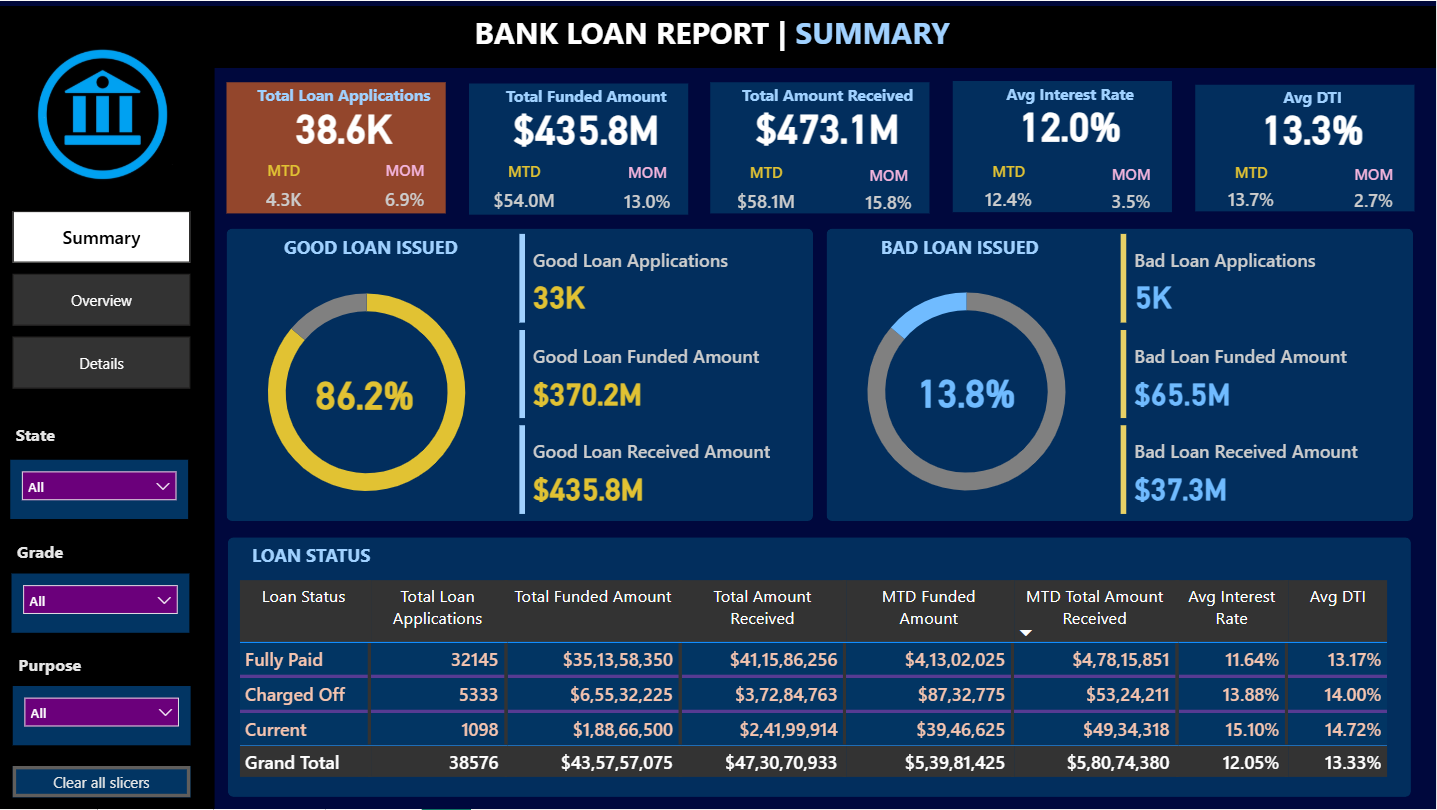

This screenshot's page, from the dashboard's own definition file:
{"tool":"powerbi","page":{"name":"Summary","canvas":[1280,720],"ordinal":0},"visuals":[{"type":"shape","box":[0,55.5,192,664.7],"z":0},{"type":"shape","box":[848.8,70.8,195.4,117],"z":0,"group":"g4"},{"type":"shape","box":[202.7,72,195.4,117],"z":0,"group":"g1"},{"type":"shape","box":[633.6,72,195.4,117],"z":0,"group":"g3"},{"type":"shape","box":[418.3,73.2,195.4,117],"z":0,"group":"g2"},{"type":"shape","box":[1065.3,74.2,195.4,112.7],"z":0,"group":"g5"},{"type":"card","fields":{"Values":["bank_loan_data.Avg Interest Rate"]},"box":[855.2,85.7,195.4,48.3],"z":1000,"group":"g4"},{"type":"card","fields":{"Values":["bank_loan_data.Total Loan Applications"]},"box":[209.1,86.9,195.4,48.3],"z":1000,"group":"g1"},{"type":"card","fields":{"Values":["bank_loan_data.Total Amount Received"]},"box":[640,86.9,195.4,48.3],"z":1000,"group":"g3"},{"type":"card","fields":{"Values":["bank_loan_data.Total Funded Amount"]},"box":[424.7,88.1,195.4,48.3],"z":1000,"group":"g2"},{"type":"card","fields":{"Values":["bank_loan_data.Avg DTI"]},"box":[1071.7,88.6,195.4,46.5],"z":1000,"group":"g5"},{"type":"shape","box":[202.7,202.7,522.4,260.6],"z":1000},{"type":"shape","box":[0,4.8,1280,55.5],"z":2000},{"type":"textbox","box":[855.2,67.6,195.4,33.8],"z":2000,"group":"g4"},{"type":"textbox","box":[209.1,68.8,195.4,33.8],"z":2000,"group":"g1"},{"type":"textbox","box":[640,68.8,195.4,33.8],"z":2000,"group":"g3"},{"type":"textbox","box":[424.7,70,195.4,33.8],"z":2000,"group":"g2"},{"type":"textbox","box":[1071.7,71.2,195.4,32.5],"z":2000,"group":"g5"},{"type":"card","title":"MTD","fields":{"Values":["bank_loan_data.MTD Loan Applications"]},"box":[220,141.5,66.4,56.7],"z":3000,"group":"g1"},{"type":"card","title":"MTD","fields":{"Values":["bank_loan_data.MTD Funded Amount"]},"box":[433.9,142.7,67.6,56.7],"z":3000,"group":"g2"},{"type":"card","title":"MTD","fields":{"Values":["bank_loan_data.MTD Avg Int Rate"]},"box":[865.6,142.7,66.4,55.5],"z":3000,"group":"g4"},{"type":"card","title":"MTD","fields":{"Values":["bank_loan_data.MTD Avg DTI"]},"box":[1082.1,143.5,66.4,53.5],"z":3000,"group":"g5"},{"type":"card","title":"MTD","fields":{"Values":["bank_loan_data.MTD Total Amount Received"]},"box":[650.4,143.9,66.4,55.5],"z":3000,"group":"g3"},{"type":"textbox","box":[237.7,202.7,185.8,33.8],"z":3000},{"type":"card","title":"MOM","fields":{"Values":["bank_loan_data.Mom Loan Application"]},"box":[328.6,141.5,66.4,57.9],"z":4000,"group":"g1"},{"type":"card","title":"MOM","fields":{"Values":["bank_loan_data.MoM Total Funded Amount"]},"box":[543.7,143.9,66.4,56.7],"z":4000,"group":"g2"},{"type":"card","title":"MOM","fields":{"Values":["bank_loan_data.MoM Avg Int Rate"]},"box":[974.2,143.9,66.4,54.3],"z":4000,"group":"g4"},{"type":"card","title":"MOM","fields":{"Values":["bank_loan_data.MoM Avg DTI"]},"box":[1190.7,144.7,66.4,52.3],"z":4000,"group":"g5"},{"type":"card","title":"MOM","fields":{"Values":["bank_loan_data.MoM Total Amount Received"]},"box":[759,145.1,66.4,54.3],"z":4000,"group":"g3"},{"type":"card","fields":{"Values":["bank_loan_data.Good Loan %"]},"box":[252.1,324.5,146,48.3],"z":4000},{"type":"textbox","box":[418.6,4.8,442.8,45.8],"z":5000},{"type":"group","id":"g1","title":"Group 1","box":[202.7,68.8,201.8,130.6],"z":6000},{"type":"group","id":"g2","title":"Group 1","box":[418.3,70,201.5,130.3],"z":7000},{"type":"donutChart","fields":{"Category":["bank_loan_data.Good v Bad Loan"],"Y":["bank_loan_data.Total Loan Applications"]},"box":[202.4,233.3,250,229.8],"z":8000},{"type":"group","id":"g3","title":"Group 1","box":[633.6,68.8,201.5,130.3],"z":9000},{"type":"group","id":"g4","title":"Group 1","box":[848.8,67.6,202.7,131.5],"z":10000},{"type":"group","id":"g5","title":"Group 1","box":[1065.3,71.2,202.7,126.7],"z":11000},{"type":"shape","box":[737.1,202.7,522.4,260.6],"z":12000},{"type":"cardVisual","fields":{"Data":["bank_loan_data.Good Loan Applications","bank_loan_data.Good Loan Funded Amount","bank_loan_data.Good Loan Received Amount"]},"box":[458.4,202.7,266.6,260.6],"z":13000},{"type":"donutChart","fields":{"Category":["bank_loan_data.Good v Bad Loan"],"Y":["bank_loan_data.Total Loan Applications"]},"box":[737.1,232.8,249.7,230.4],"z":14000},{"type":"textbox","box":[762.5,202.7,185.8,33.8],"z":15000},{"type":"card","fields":{"Values":["bank_loan_data.Bad Loan %"]},"box":[788.1,322.6,146.4,48.8],"z":16000},{"type":"cardVisual","fields":{"Data":["bank_loan_data.Bad Loan Applications","bank_loan_data.Bad Loan Funded Amount","bank_loan_data.Bad Loan Received Amount"]},"box":[994,202.4,266.7,260.7],"z":17000},{"type":"shape","box":[203.8,477.5,1053.8,231.2],"z":18000},{"type":"tableEx","fields":{"Values":["bank_loan_data.loan_status","bank_loan_data.Total Loan Applications","bank_loan_data.Total Funded Amount","bank_loan_data.Total Amount Received","bank_loan_data.MTD Funded Amount","bank_loan_data.MTD Total Amount Received","bank_loan_data.Avg Interest Rate","bank_loan_data.Avg DTI"]},"box":[208.2,510.6,1047.1,198.8],"z":19000},{"type":"textbox","box":[220,477.6,184.7,32.9],"z":21000},{"type":"slicer","fields":{"Values":["bank_loan_data.address_state"]},"box":[9.7,409,158,53.1],"z":22000},{"type":"textbox","box":[9.7,370.4,68.8,38.6],"z":23000},{"type":"slicer","fields":{"Values":["bank_loan_data.grade"]},"box":[10.9,510.3,158,53.1],"z":24000},{"type":"textbox","box":[10.9,475.3,68.8,35],"z":25000},{"type":"slicer","fields":{"Values":["bank_loan_data.purpose"]},"box":[12.1,610.5,158,53.1],"z":26000},{"type":"textbox","box":[12.1,575.5,77.2,35],"z":27000},{"type":"actionButton","box":[12.1,681.6,158,27.7],"z":28000},{"type":"image","box":[21.7,30.2,139.9,142.4],"z":29000},{"type":"pageNavigator","box":[12.1,187,158,160.5],"z":30000}]}

Visuals, with their boxes in screenshot pixels (x1, y1, x2, y2), scaled from the page's 1280x720 canvas onto the 1437x810 screenshot:
shape: x1=0, y1=62, x2=216, y2=809
shape: x1=953, y1=80, x2=1172, y2=211
shape: x1=228, y1=81, x2=447, y2=213
shape: x1=711, y1=81, x2=931, y2=213
shape: x1=470, y1=82, x2=689, y2=214
shape: x1=1196, y1=83, x2=1415, y2=210
card - bank_loan_data.Avg Interest Rate: x1=960, y1=96, x2=1179, y2=151
card - bank_loan_data.Total Loan Applications: x1=235, y1=98, x2=454, y2=152
card - bank_loan_data.Total Amount Received: x1=718, y1=98, x2=938, y2=152
card - bank_loan_data.Total Funded Amount: x1=477, y1=99, x2=696, y2=153
card - bank_loan_data.Avg DTI: x1=1203, y1=100, x2=1423, y2=152
shape: x1=228, y1=228, x2=814, y2=521
shape: x1=0, y1=5, x2=1436, y2=68
textbox: x1=960, y1=76, x2=1179, y2=114
textbox: x1=235, y1=77, x2=454, y2=115
textbox: x1=718, y1=77, x2=938, y2=115
textbox: x1=477, y1=79, x2=696, y2=117
textbox: x1=1203, y1=80, x2=1423, y2=117
"MTD" card: x1=247, y1=159, x2=322, y2=223
"MTD" card: x1=487, y1=161, x2=563, y2=224
"MTD" card: x1=972, y1=161, x2=1046, y2=223
"MTD" card: x1=1215, y1=161, x2=1289, y2=222
"MTD" card: x1=730, y1=162, x2=805, y2=224
textbox: x1=267, y1=228, x2=475, y2=266
"MOM" card: x1=369, y1=159, x2=443, y2=224
"MOM" card: x1=610, y1=162, x2=685, y2=226
"MOM" card: x1=1094, y1=162, x2=1168, y2=223
"MOM" card: x1=1337, y1=163, x2=1411, y2=222
"MOM" card: x1=852, y1=163, x2=927, y2=224
card - bank_loan_data.Good Loan %: x1=283, y1=365, x2=447, y2=419
textbox: x1=470, y1=5, x2=967, y2=57
"Group 1" group: x1=228, y1=77, x2=454, y2=224
"Group 1" group: x1=470, y1=79, x2=696, y2=225
donutChart - bank_loan_data.Good v Bad Loan x bank_loan_data.Total Loan Applications: x1=227, y1=262, x2=508, y2=521
"Group 1" group: x1=711, y1=77, x2=938, y2=224
"Group 1" group: x1=953, y1=76, x2=1180, y2=224
"Group 1" group: x1=1196, y1=80, x2=1424, y2=223
shape: x1=828, y1=228, x2=1414, y2=521
cardVisual - bank_loan_data.Good Loan Applications x bank_loan_data.Good Loan Funded Amount: x1=515, y1=228, x2=814, y2=521
donutChart - bank_loan_data.Good v Bad Loan x bank_loan_data.Total Loan Applications: x1=828, y1=262, x2=1108, y2=521
textbox: x1=856, y1=228, x2=1065, y2=266
card - bank_loan_data.Bad Loan %: x1=885, y1=363, x2=1049, y2=418
cardVisual - bank_loan_data.Bad Loan Applications x bank_loan_data.Bad Loan Funded Amount: x1=1116, y1=228, x2=1415, y2=521
shape: x1=229, y1=537, x2=1412, y2=797
tableEx - bank_loan_data.loan_status x bank_loan_data.Total Loan Applications: x1=234, y1=574, x2=1409, y2=798
textbox: x1=247, y1=537, x2=454, y2=574
slicer - bank_loan_data.address_state: x1=11, y1=460, x2=188, y2=520
textbox: x1=11, y1=417, x2=88, y2=460
slicer - bank_loan_data.grade: x1=12, y1=574, x2=190, y2=634
textbox: x1=12, y1=535, x2=89, y2=574
slicer - bank_loan_data.purpose: x1=14, y1=687, x2=191, y2=747
textbox: x1=14, y1=647, x2=100, y2=687
actionButton: x1=14, y1=767, x2=191, y2=798
image: x1=24, y1=34, x2=181, y2=194
pageNavigator: x1=14, y1=210, x2=191, y2=391
